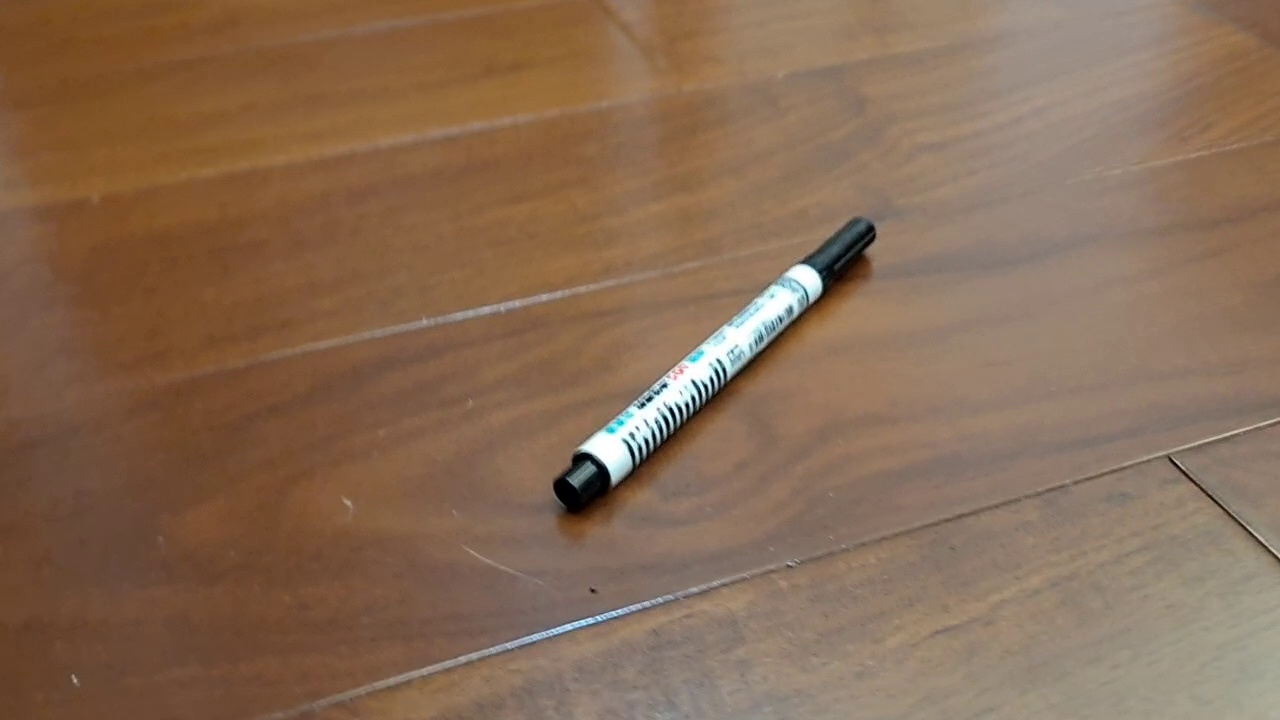pen: (553, 215, 877, 513)
